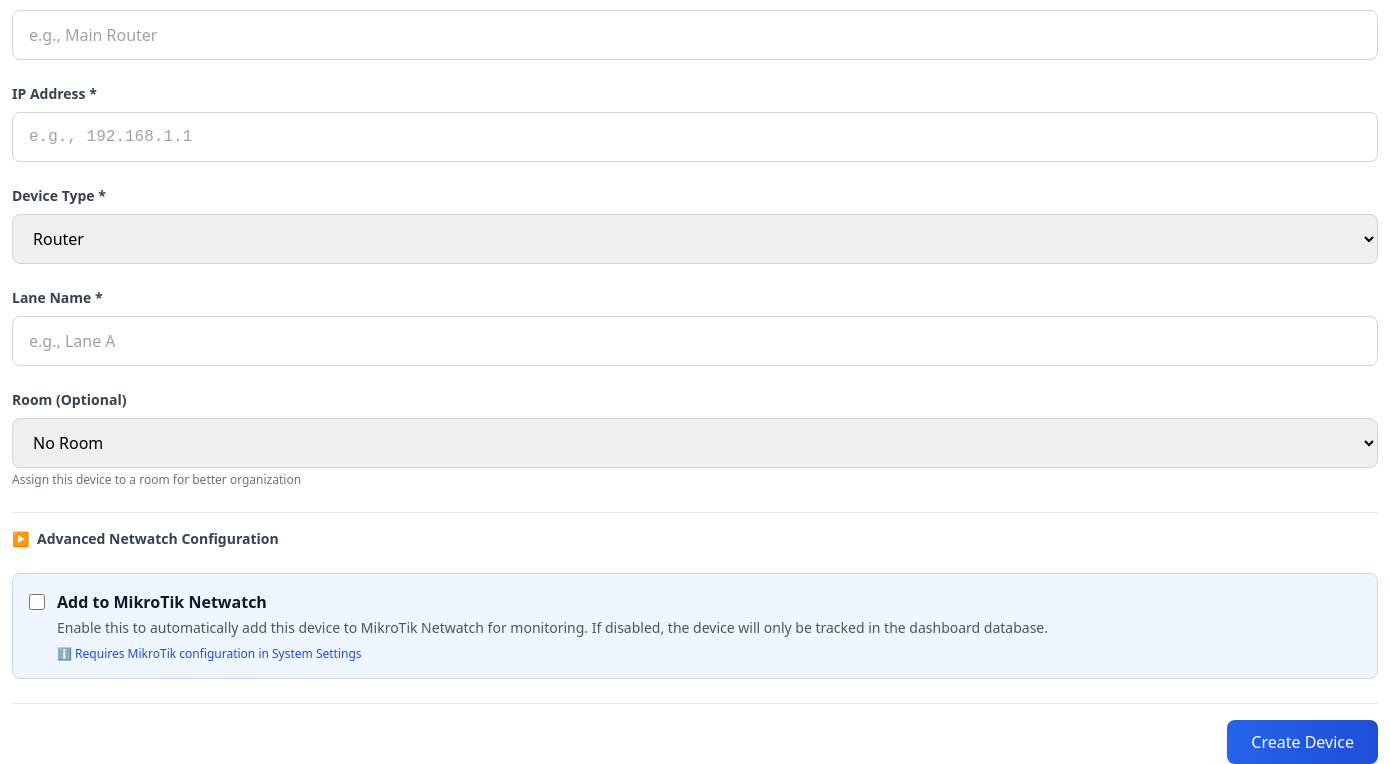
Test: DeviceForm Validation › should clear validation error when user starts typing
(page scrolled)
Click the button "Create Device".
click(1303, 742)  # box [1227,720,1378,763]
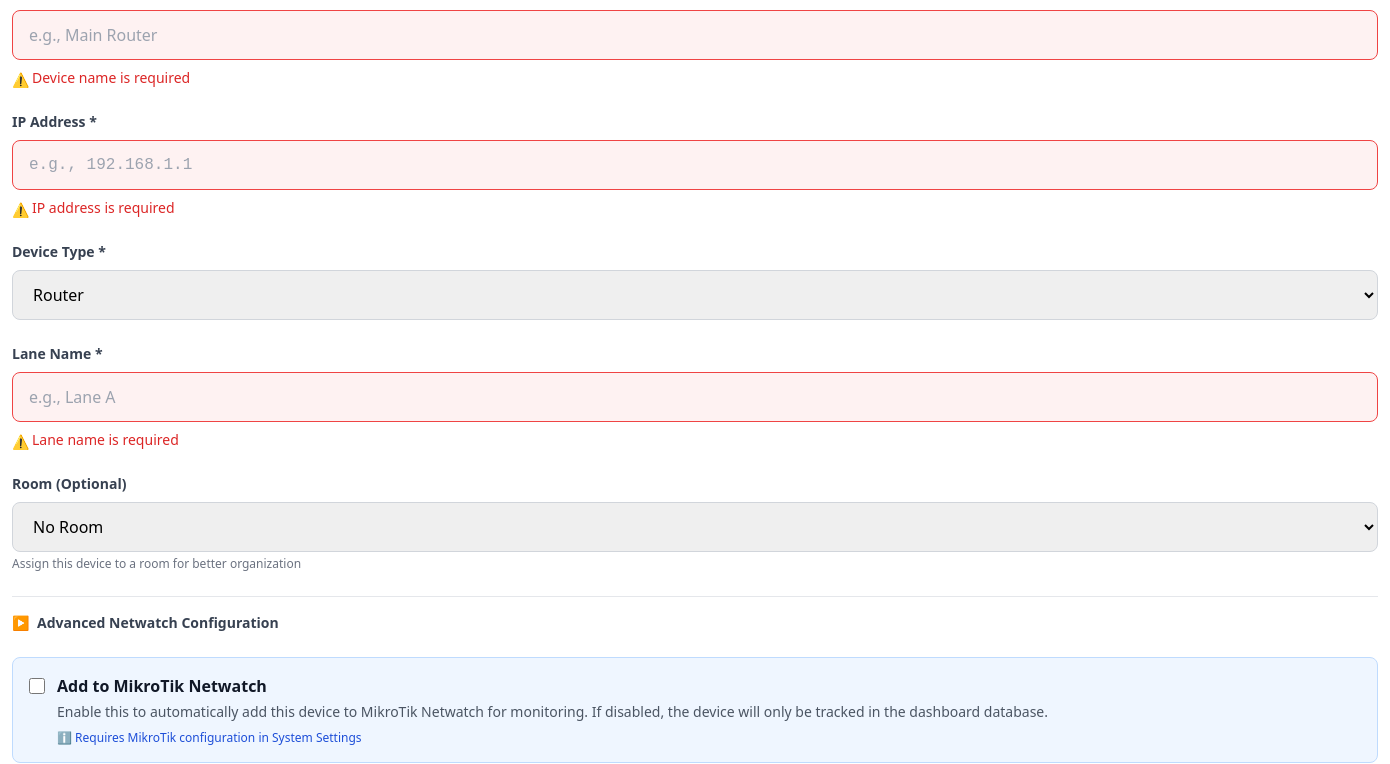
Check: the text "Device name is required" is shown, box [32,68,190,87]
Type "Test Device" into the field labelled "Device Name *".
click(695, 35); type("Test Device")  # box [12,10,1378,60]
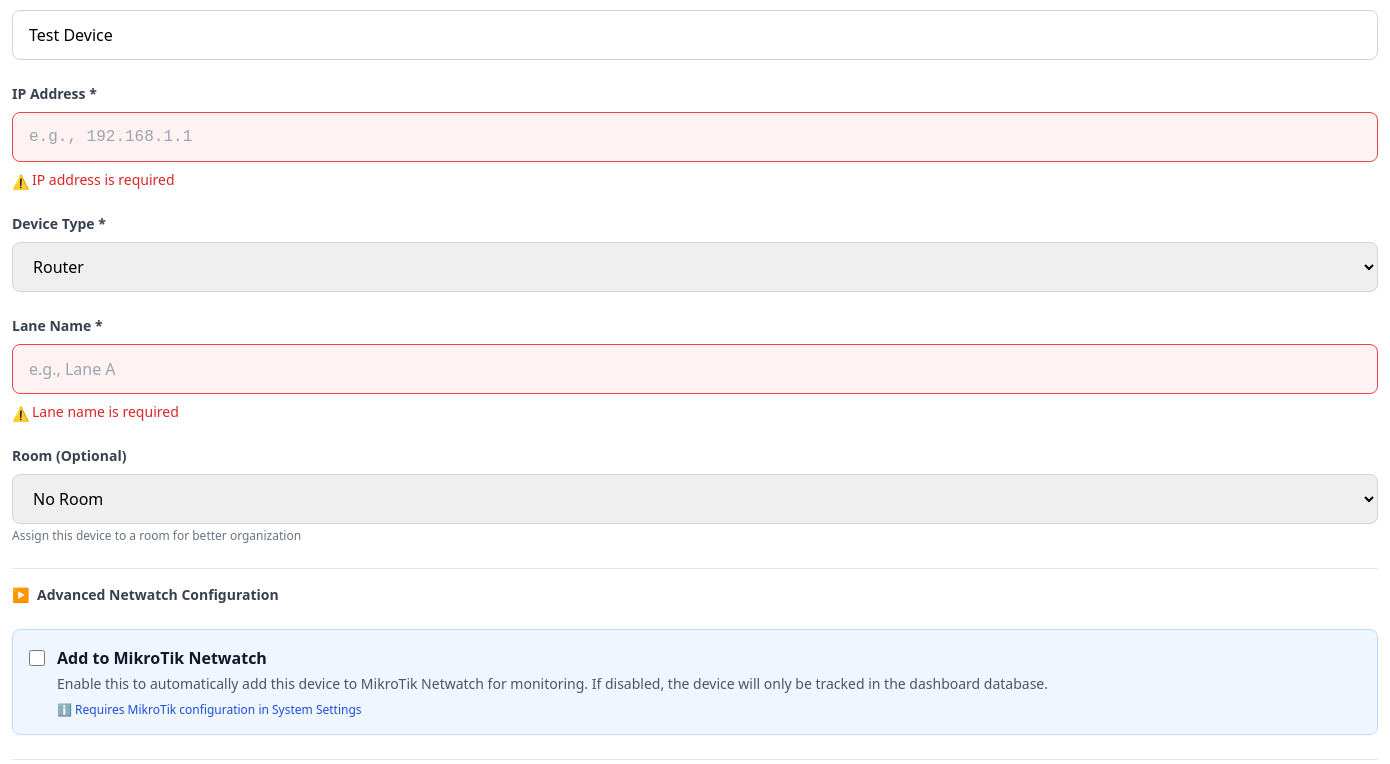
Check: the text "Device name is required" is gone
